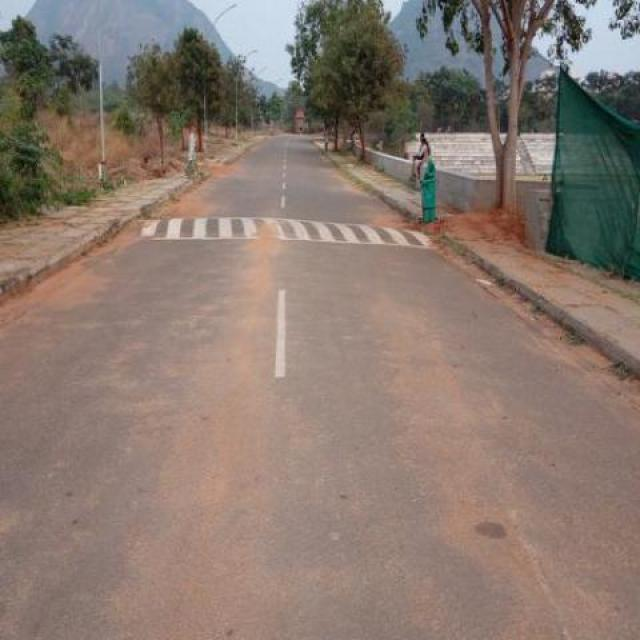Speed Bump: (133, 214, 440, 248)
